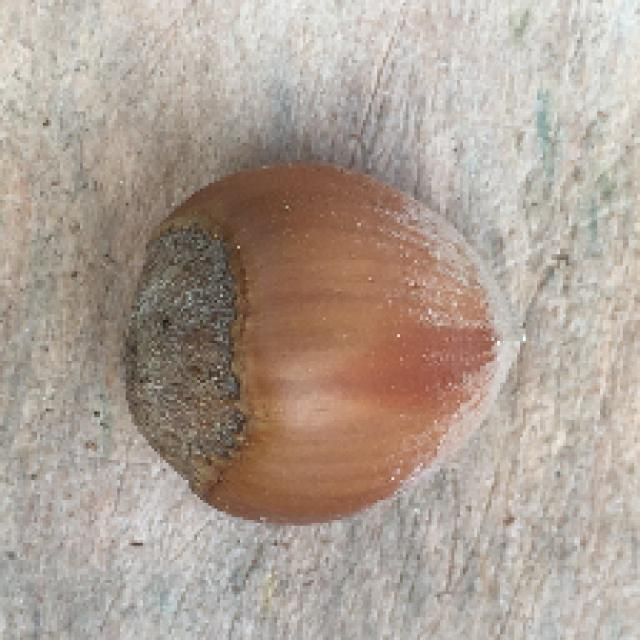qualityHazelnut: (123, 161, 537, 520)
